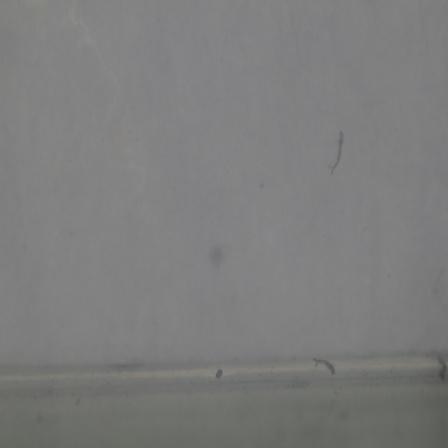Jentik-Nyamuk: (326, 123, 346, 181), (311, 349, 338, 383)
